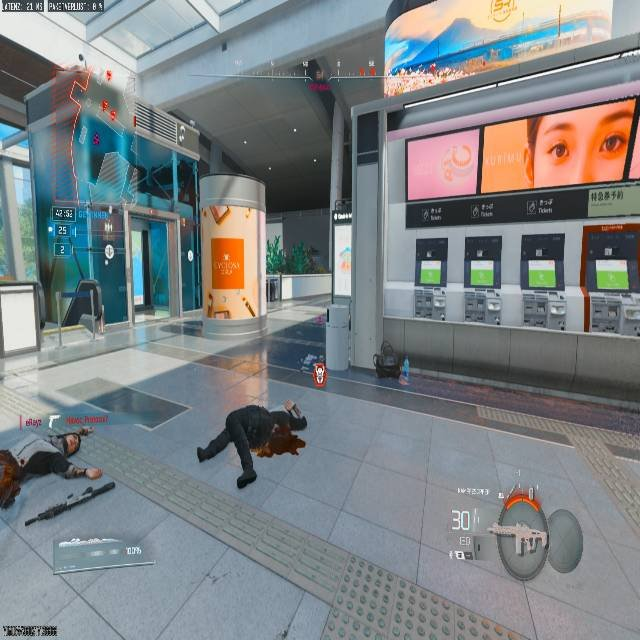head: (281, 398, 307, 432), (52, 430, 82, 456)
player: (0, 428, 102, 511)
